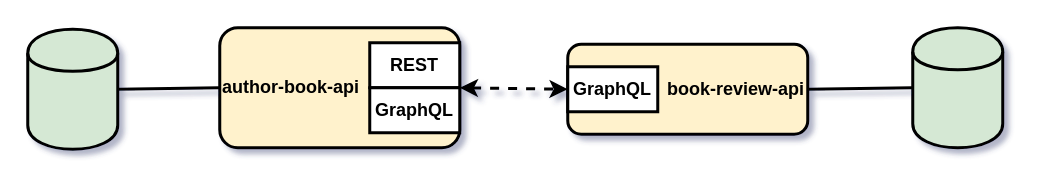
This 1038x185 diagram has some shape labels left out. Each missing label, with the centre of its shape:
Mongo: (x=957, y=87)
MySQL: (x=72, y=88)
